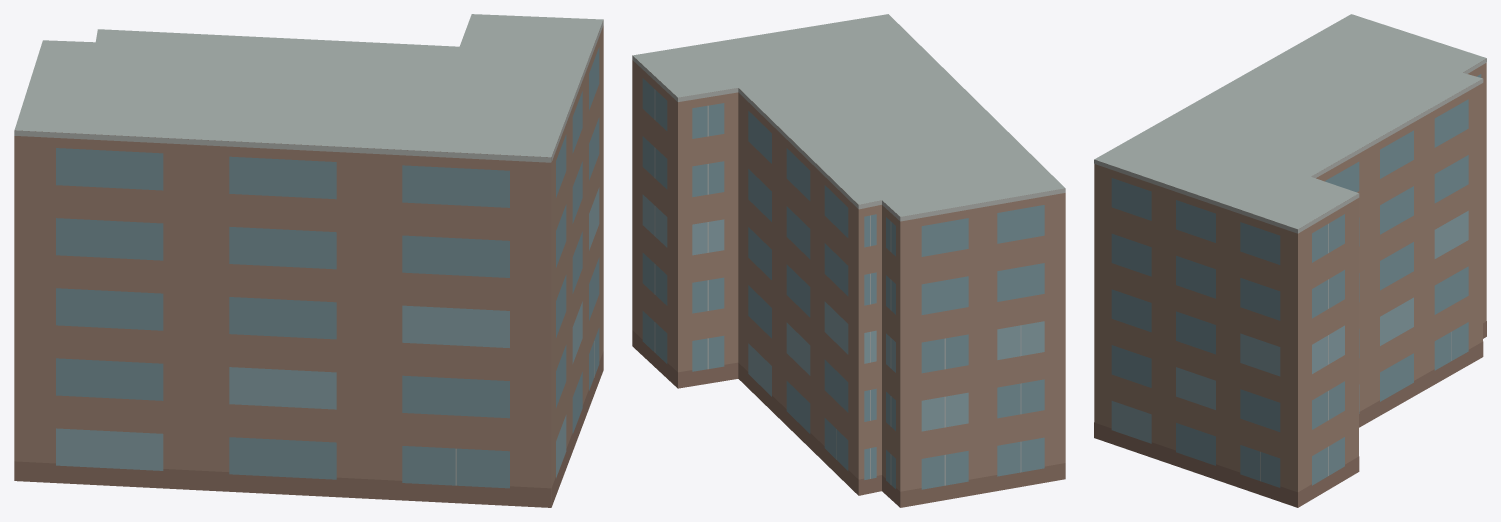
File: survey-upis-32699189.glb
3 views of the same model, side by side, from view 1: azimuth 30°, elevation 25°; view 2: azimuth 150°, elevation 25°; view 3: azimuth 270°, elevation 25° (orthographic). The views are drawn at different scales.
Parts seen in each view (by area): view 1: survey-upis-32699189.tmp; view 2: survey-upis-32699189.tmp; view 3: survey-upis-32699189.tmp.
Part boxes in pixels (box(x1,y1,x2,y2)): survey-upis-32699189.tmp: box(14, 14, 603, 507); survey-upis-32699189.tmp: box(632, 14, 1065, 507); survey-upis-32699189.tmp: box(1094, 14, 1486, 507).
Size of the model in its own units: 25.96 by 15.65 by 20.
